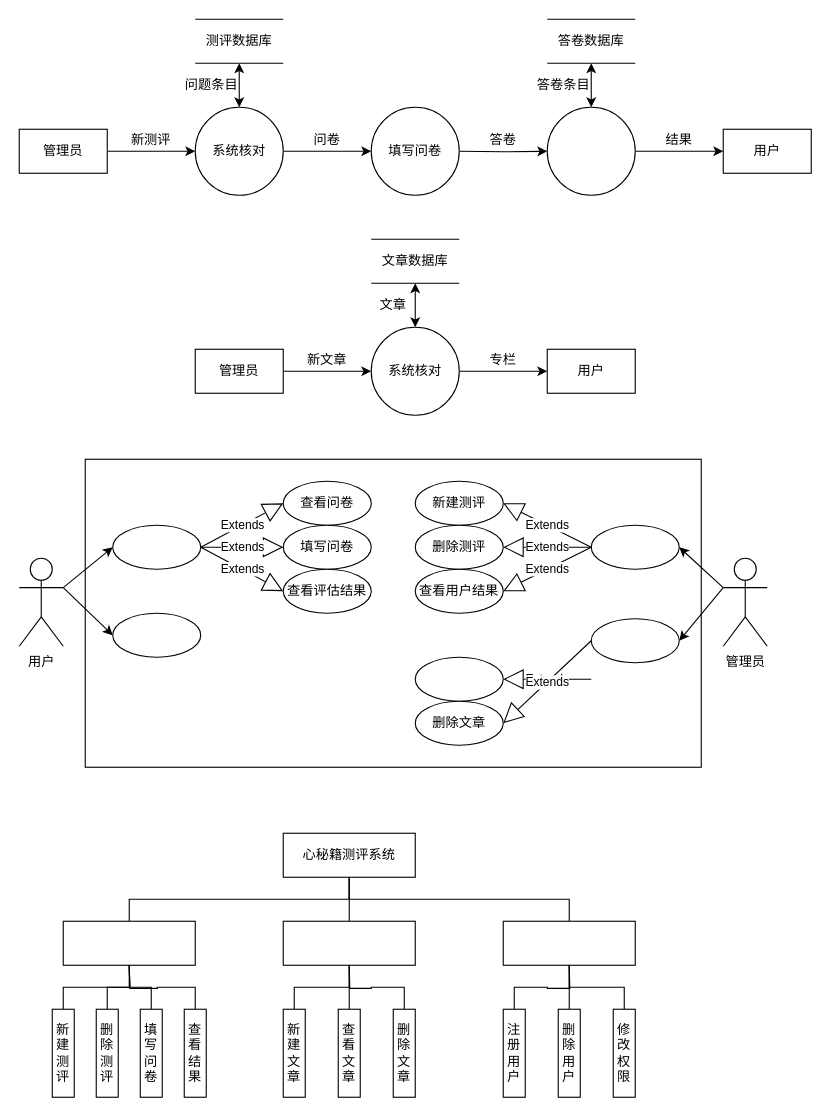
Some shapes in this 831 by 1117 pixel diagram are drawn without their labels. The box of each missing label's shape, as (x1, y1, x2, y2) in pixels:
专栏子系统: (282, 920, 415, 965)
查看专栏文章: (112, 612, 201, 657)
核对问卷 评估结果: (546, 106, 635, 195)
添加文章: (414, 656, 503, 701)
用户管理子系统: (502, 920, 635, 965)
管理专栏: (590, 618, 679, 663)
管理测评: (590, 524, 679, 569)
问卷子系统: (62, 920, 195, 965)
问卷操作: (112, 524, 201, 569)
